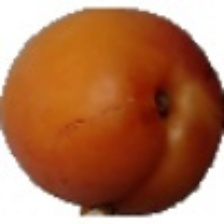apricot: (20, 34, 210, 217)
